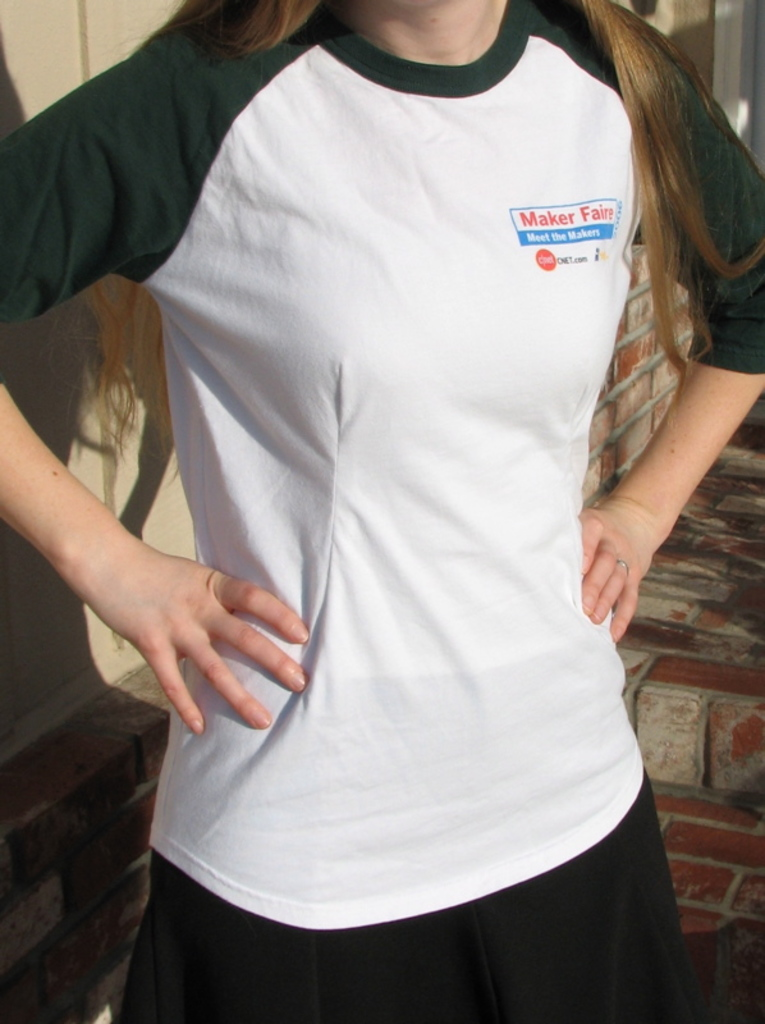Person: (1, 2, 765, 1024)
